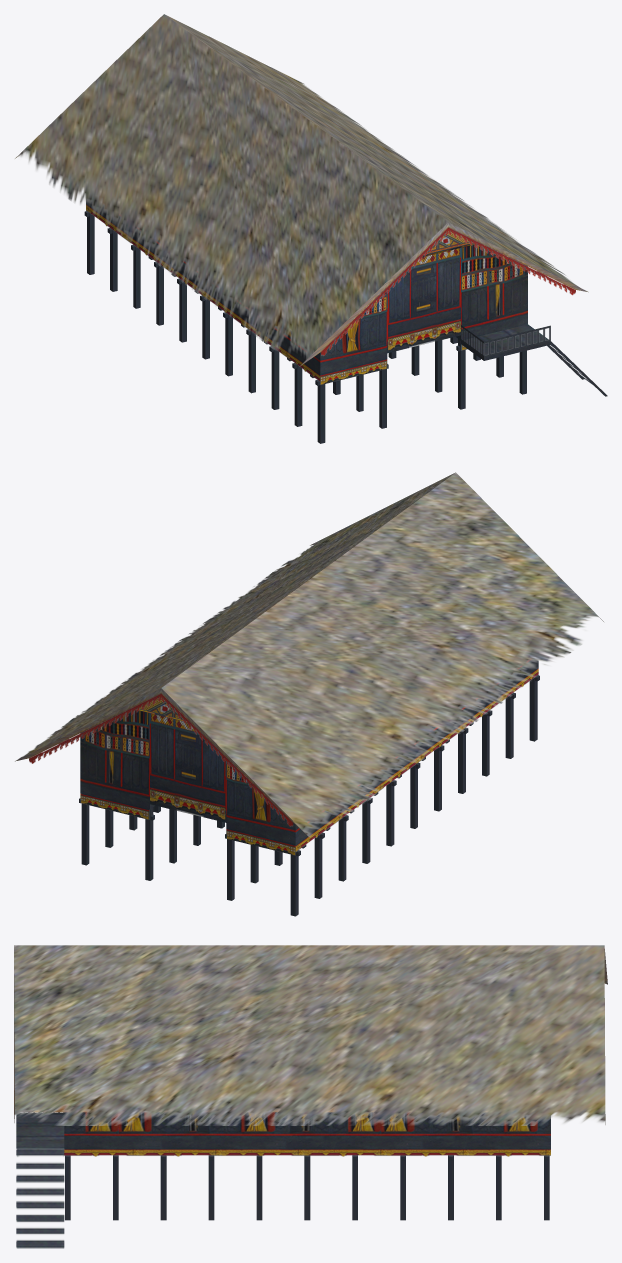
The model's file is rumah_krong_aceh.glb.
The picture shows the model from 3 angles, top to bottom: view 1: azimuth 30°, elevation 25°; view 2: azimuth 150°, elevation 25°; view 3: azimuth 270°, elevation 25°; orthographic projection. The views are drawn at different scales.
Visible parts, largest first — view 1: Plane.001, Plane.002, Cube.002, Cube.001; view 2: Plane.001, Plane.002, Cube.002, Cube.001; view 3: Plane.001, Plane.002, Cube.002.
Boxes of the visible parts, <box> form: Plane.001: <box>15,14,588,366</box>; Plane.002: <box>86,198,607,396</box>; Cube.002: <box>87,213,526,443</box>; Cube.001: <box>148,256,465,428</box>; Plane.001: <box>15,472,603,838</box>; Plane.002: <box>80,659,538,855</box>; Cube.002: <box>81,677,537,916</box>; Cube.001: <box>145,722,473,900</box>; Plane.001: <box>14,945,607,1125</box>; Plane.002: <box>16,1112,550,1248</box>; Cube.002: <box>65,1155,549,1220</box>.
Bounding box in the file's own units: 12.89 × 8.55 × 20.66.
2 materials, 1 textured.
